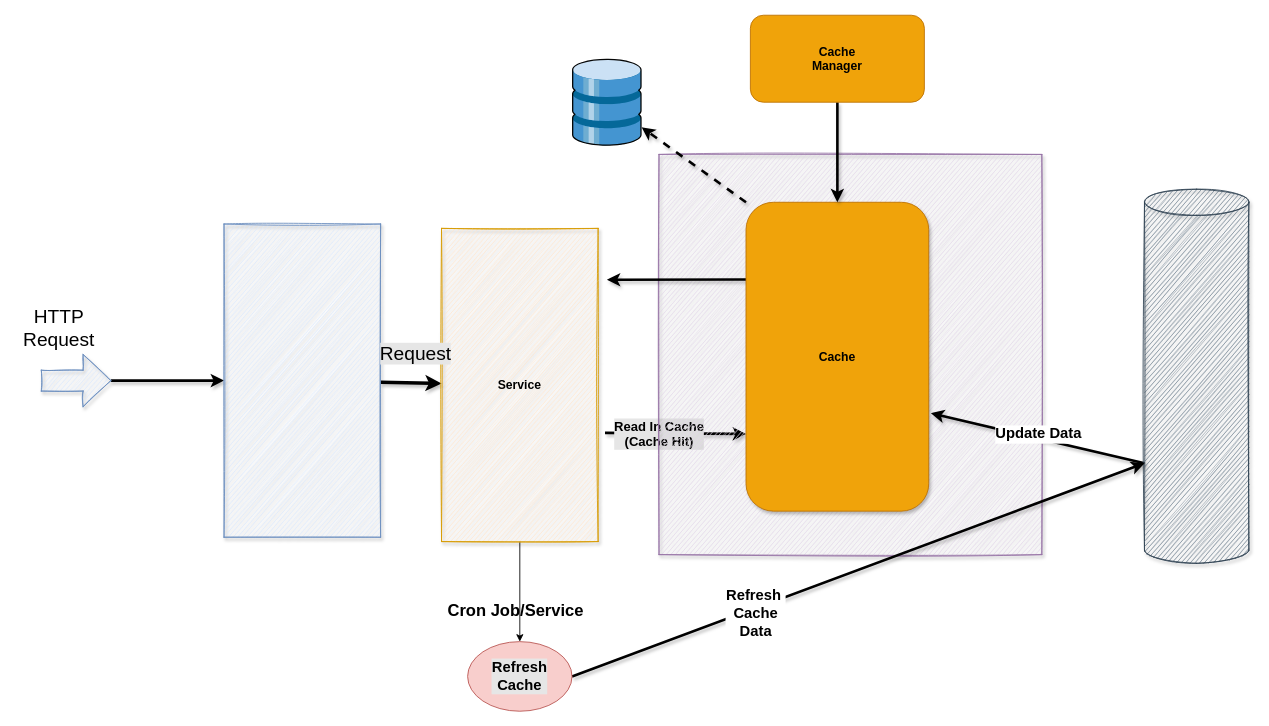
This 1269x726 diagram has some shape labels left out. Here are the shapes that lost their labels. From the top down, the centre of each, then its label:
At point (303, 381): "Controller".
At point (1197, 377): "DB".
